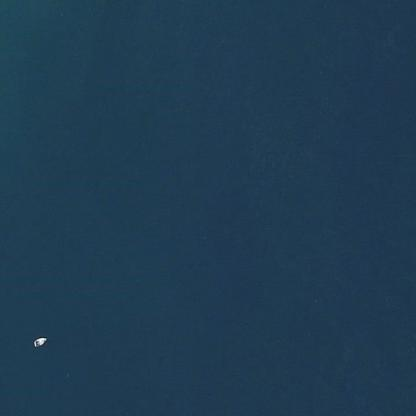ship: (30, 334, 46, 347)
